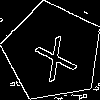X: (27, 27, 79, 83)
